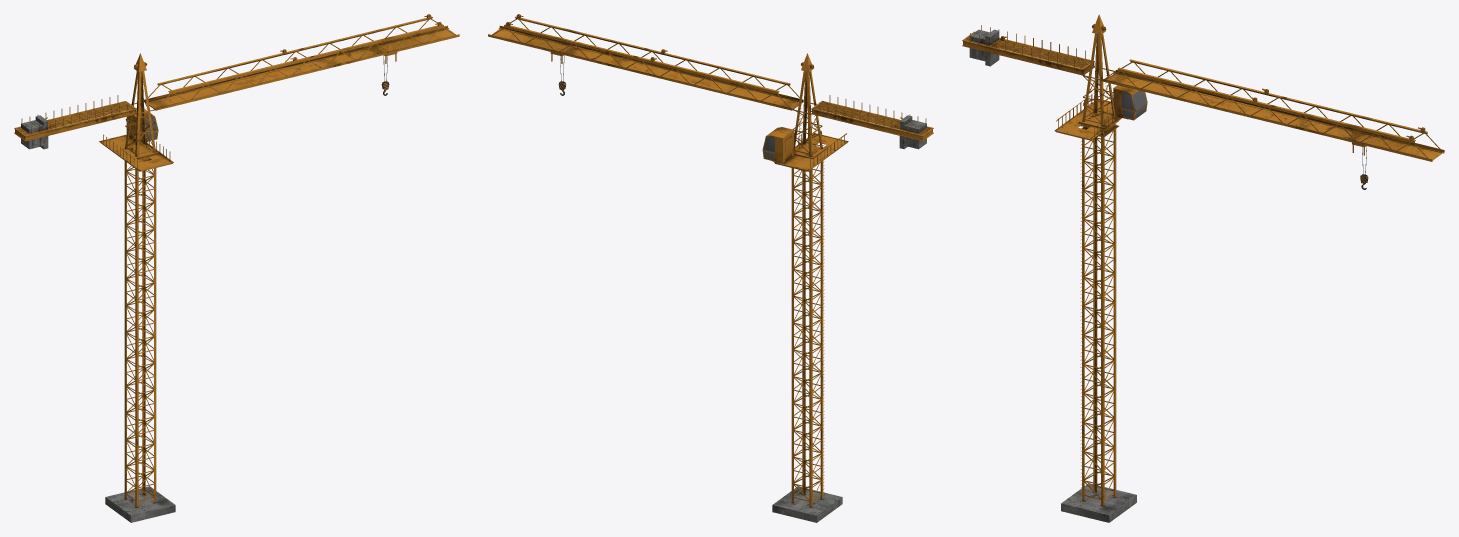
The model's file is tower_crane.glb.
3 views of the same model, side by side, from view 1: azimuth 30°, elevation 25°; view 2: azimuth 150°, elevation 25°; view 3: azimuth 330°, elevation 25° (orthographic). The views are drawn at different scales.
Visible parts, largest first — view 1: Cube.052_UV_0, Cube.060_CONCRETE_0, Cube.056_frame_0; view 2: Cube.052_UV_0, Cube.060_CONCRETE_0, Cube.056_frame_0; view 3: Cube.052_UV_0, Cube.060_CONCRETE_0, Cube.056_frame_0, Slice.005_GLASS_0.
Boxes of the visible parts, box(x1,y1,x2,y2) form: Cube.052_UV_0: box(14, 14, 459, 510); Cube.060_CONCRETE_0: box(21, 115, 175, 522); Cube.056_frame_0: box(16, 101, 134, 134); Cube.052_UV_0: box(488, 14, 933, 507); Cube.060_CONCRETE_0: box(772, 115, 926, 522); Cube.056_frame_0: box(813, 101, 931, 134); Cube.052_UV_0: box(962, 14, 1444, 506); Cube.060_CONCRETE_0: box(969, 29, 1136, 522); Cube.056_frame_0: box(965, 36, 1090, 68); Slice.005_GLASS_0: box(1122, 90, 1146, 119).
Bounding box in the file's own units: 51.5 × 51.61 × 8.28.
Materials: 7 (7 with a texture image).
